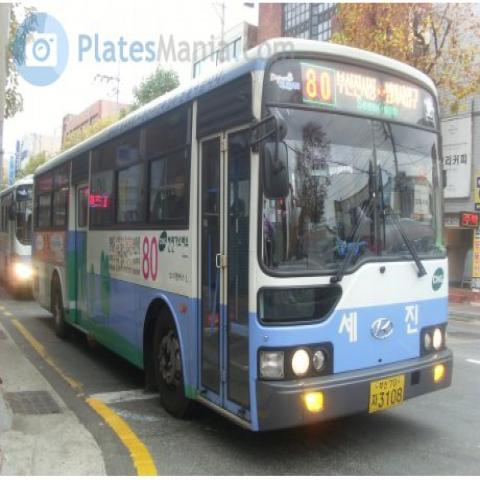LP: (368, 366, 409, 422)
